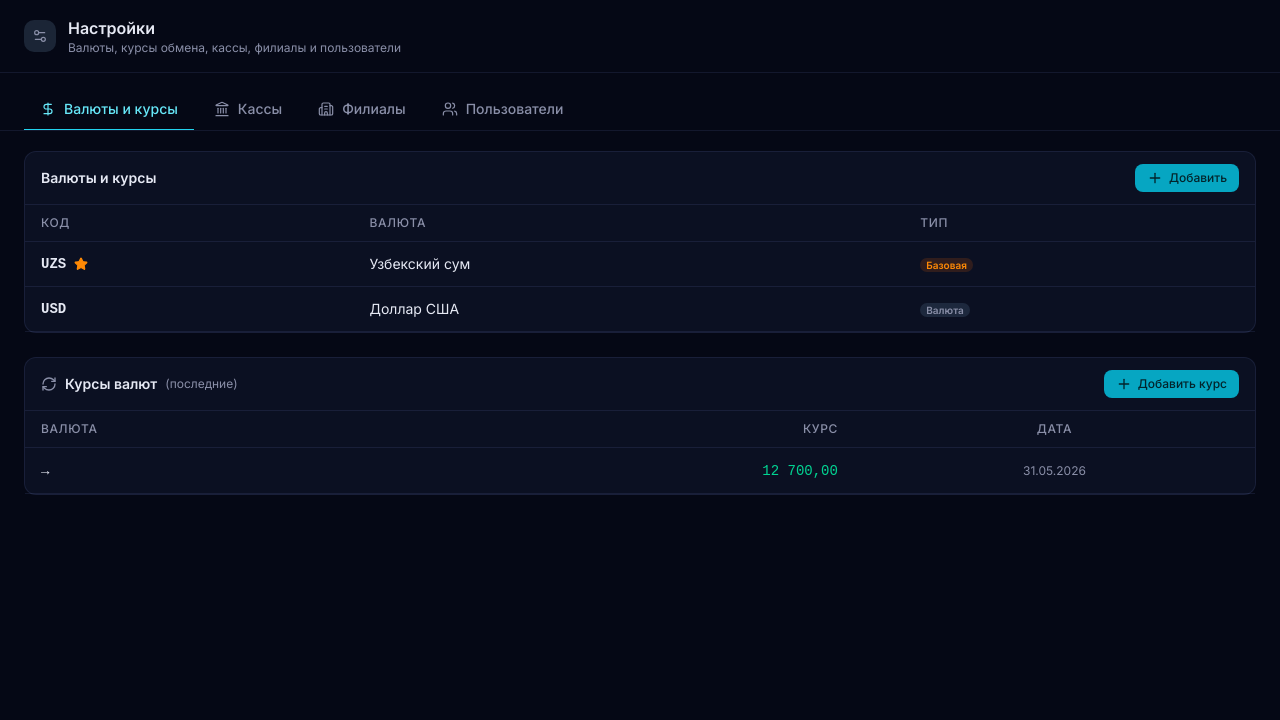
Test: SettingsPage › переключает на таб Пользователи и показывает данные
Step 1. Click the tab "Пользователи" → [503, 110], box [426,89,579,131]
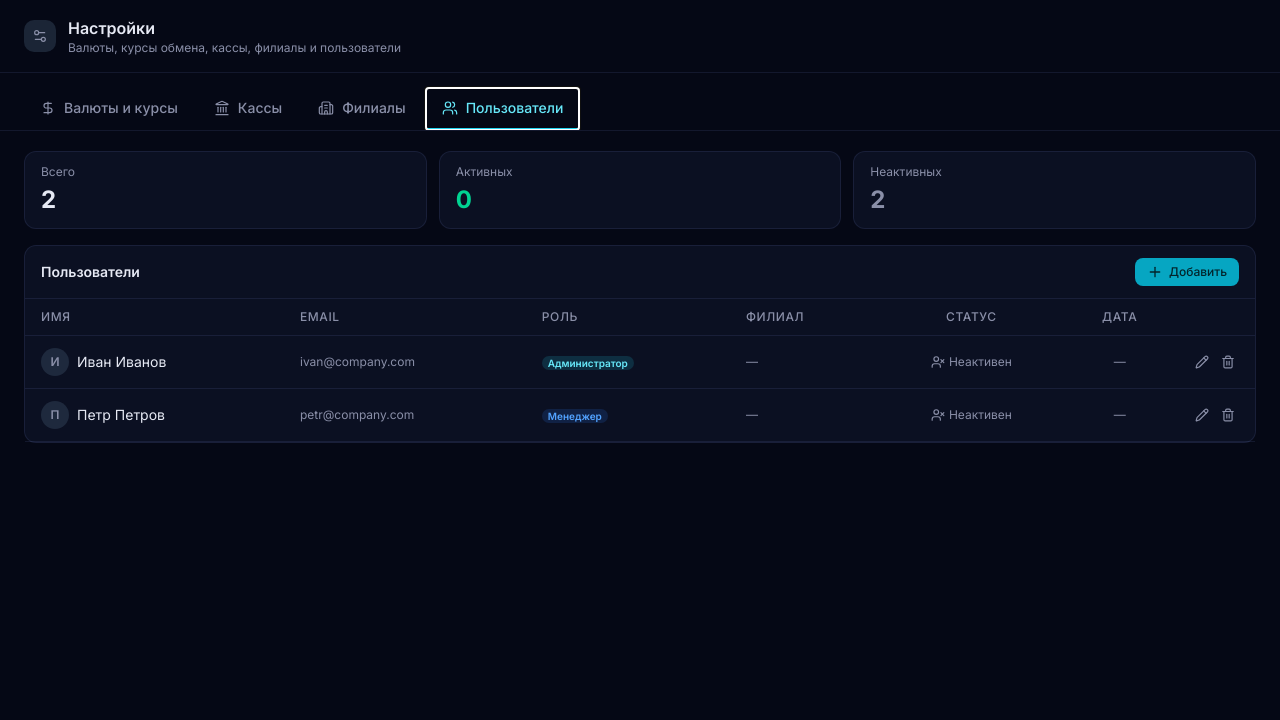
Check: the text "Иван Иванов" is shown, box [77,352,166,372]
Check: the text "Петр Петров" is shown, box [77,405,165,425]
